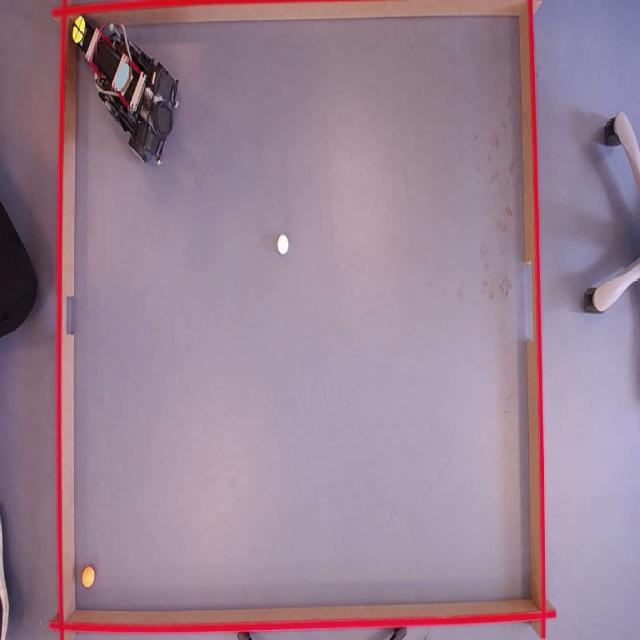orange: (82, 566, 96, 588)
robot: (66, 17, 182, 172)
robot-front: (72, 16, 86, 43)
robot-rear: (115, 62, 129, 90)
white: (276, 234, 288, 255)
